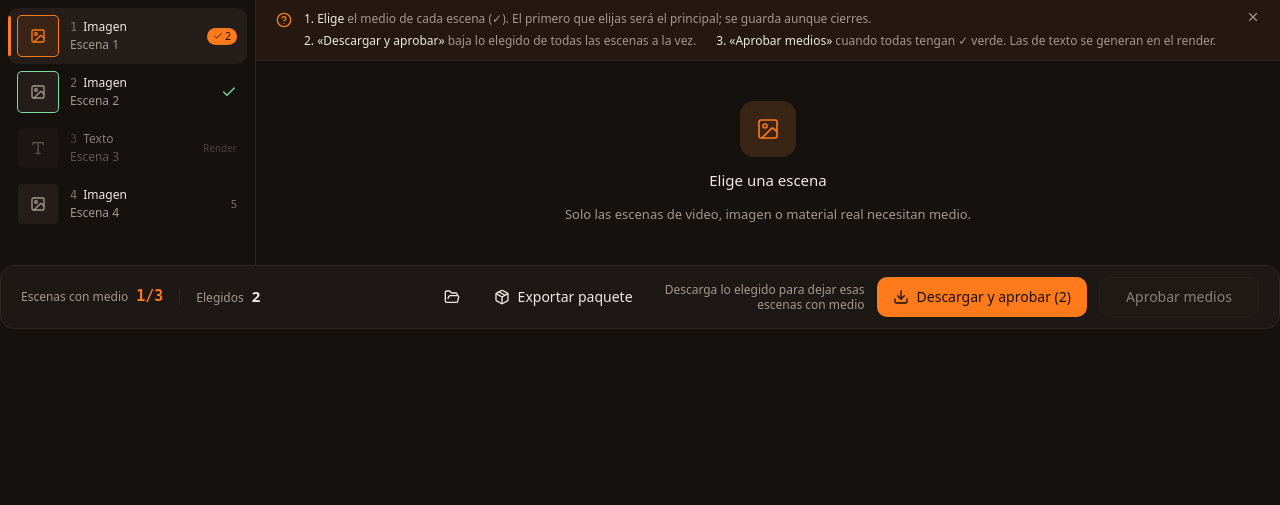
Test: flujo de medios en pantalla › «Descargar y aprobar» baja lo elegido de todas las escenas y muestra el progreso
Check: the button "Aprobar medios" is disabled, box [1099,277,1259,317]
Check: the text "Descarga lo elegido para dejar esas escenas con medio" is shown, box [657,282,865,312]
Click the button "Descargar y aprobar (2)".
click(982, 297)  # box [877,277,1087,317]
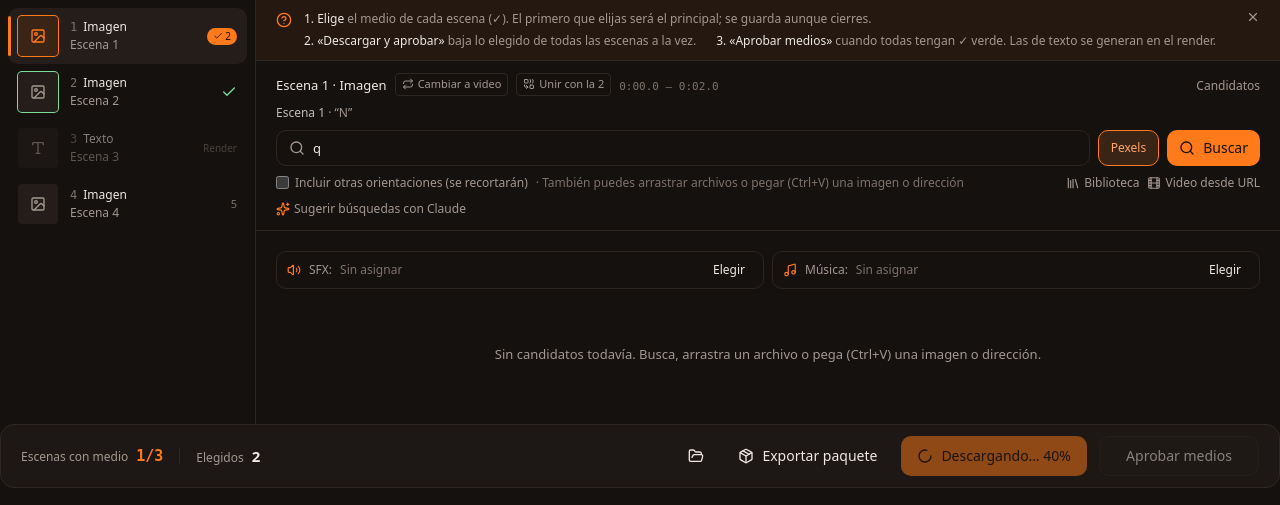
Check: the button "Descargando… 40%" is shown, box [901,436,1087,476]
